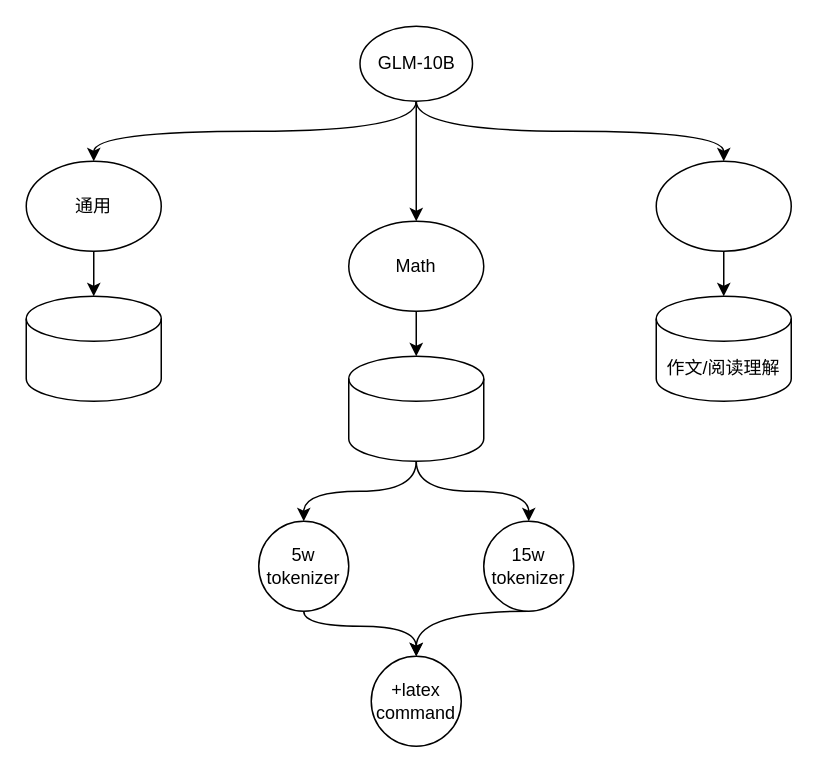
The diagram is 818 pixels wide and 773 high, and some of its shapes have lost their labels. The centre of each missing label's shape, as x and y in pixels:
"业务" goes at (723,205).
"悟道200G" goes at (93,348).
"讲义1200w" goes at (415,408).
